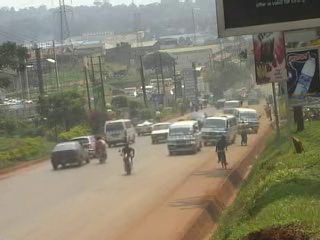Car: (49, 139, 91, 172), (71, 134, 99, 159), (214, 97, 227, 109)
Motorcycle: (117, 147, 135, 174), (94, 144, 107, 165)
